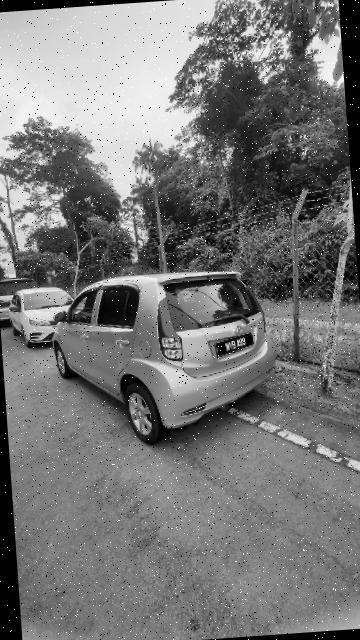License_Plate: (209, 332, 260, 359)
car: (47, 263, 287, 453), (6, 278, 82, 351)
